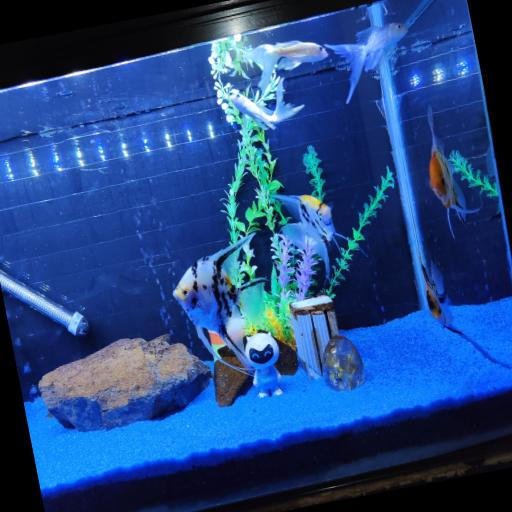Fish: (173, 234, 264, 374), (427, 107, 480, 237), (324, 23, 407, 103), (274, 195, 346, 277), (246, 41, 327, 90), (229, 79, 303, 129), (419, 257, 461, 334)
